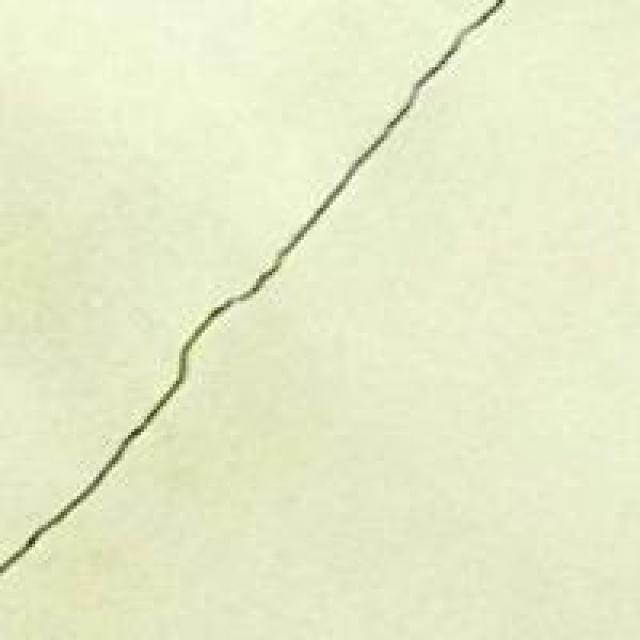Crack: (10, 3, 503, 621)
